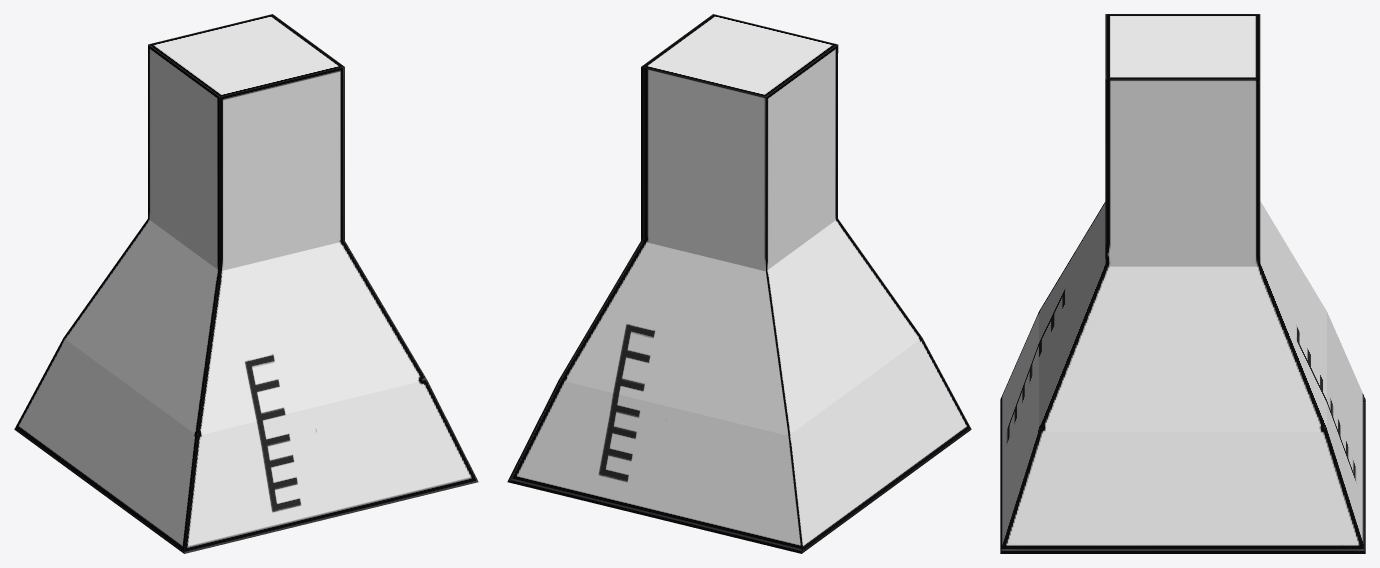
Rendered from experimentOrange.fbx.
The picture shows the model from 3 angles, left to right: view 1: azimuth 30°, elevation 25°; view 2: azimuth 150°, elevation 25°; view 3: azimuth 270°, elevation 25°; orthographic projection. The views are drawn at different scales.
Parts seen in each view (by area): view 1: experiment; view 2: experiment; view 3: experiment.
Boxes of the visible parts, left/top/right/bottom form: experiment: left=14, top=14, right=478, bottom=553; experiment: left=507, top=14, right=971, bottom=553; experiment: left=1000, top=14, right=1365, bottom=553.
Size of the model in its own units: 1 by 1.3 by 1.
